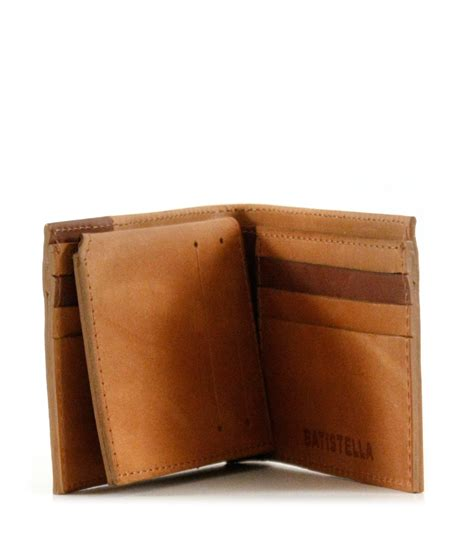cuero: (41, 200, 427, 494)
